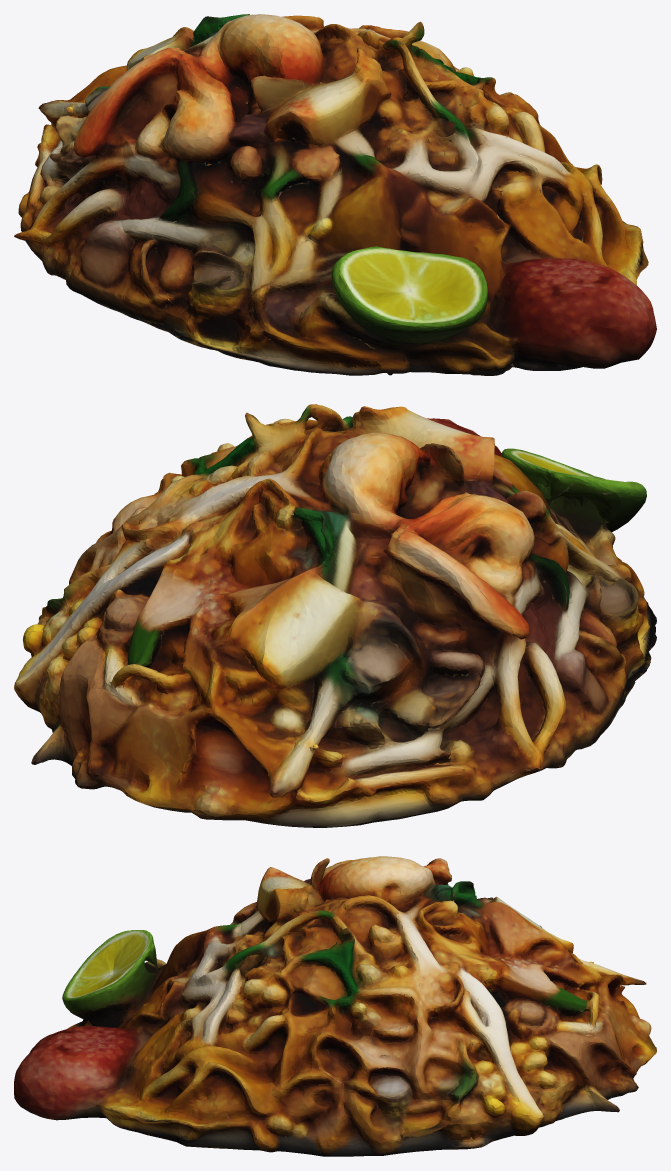
File: kwayteow.fbx
3 renders of one model, top to bottom at view 1: azimuth 30°, elevation 25°; view 2: azimuth 150°, elevation 25°; view 3: azimuth 270°, elevation 25°, orthographic. The views are drawn at different scales.
Parts seen in each view (by area): view 1: world; view 2: world; view 3: world.
Boxes of the visible parts, x1,y1,x2,y2 form: world: (14, 14, 656, 375); world: (14, 404, 656, 827); world: (14, 856, 656, 1156).
Bounding box in the file's own units: 70.93 × 32.62 × 99.01.
